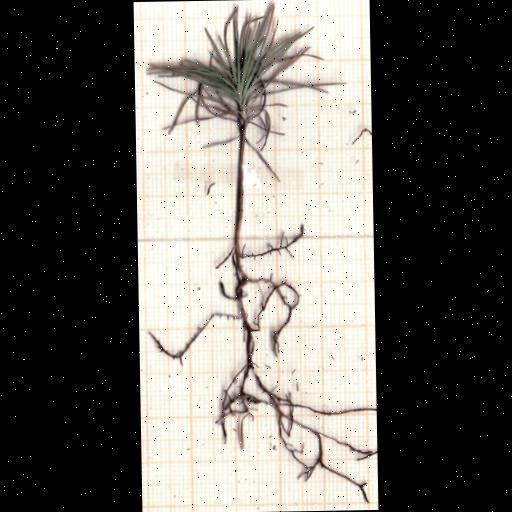flowerCedr: (150, 3, 338, 150)
rootCedr: (149, 228, 371, 502)
stemCedr: (233, 129, 247, 259)
